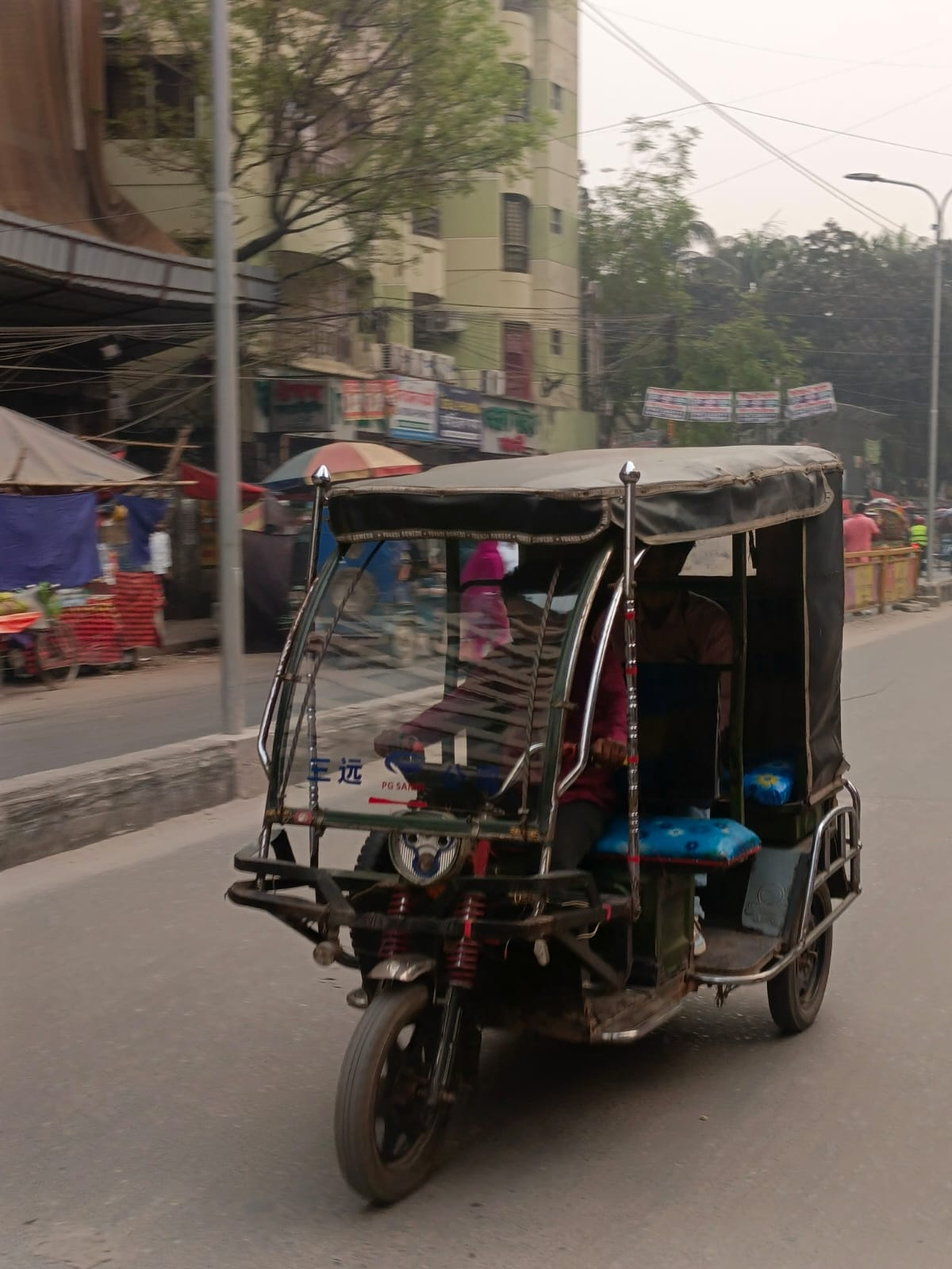auto-ricksaw: (230, 387, 952, 1269)
